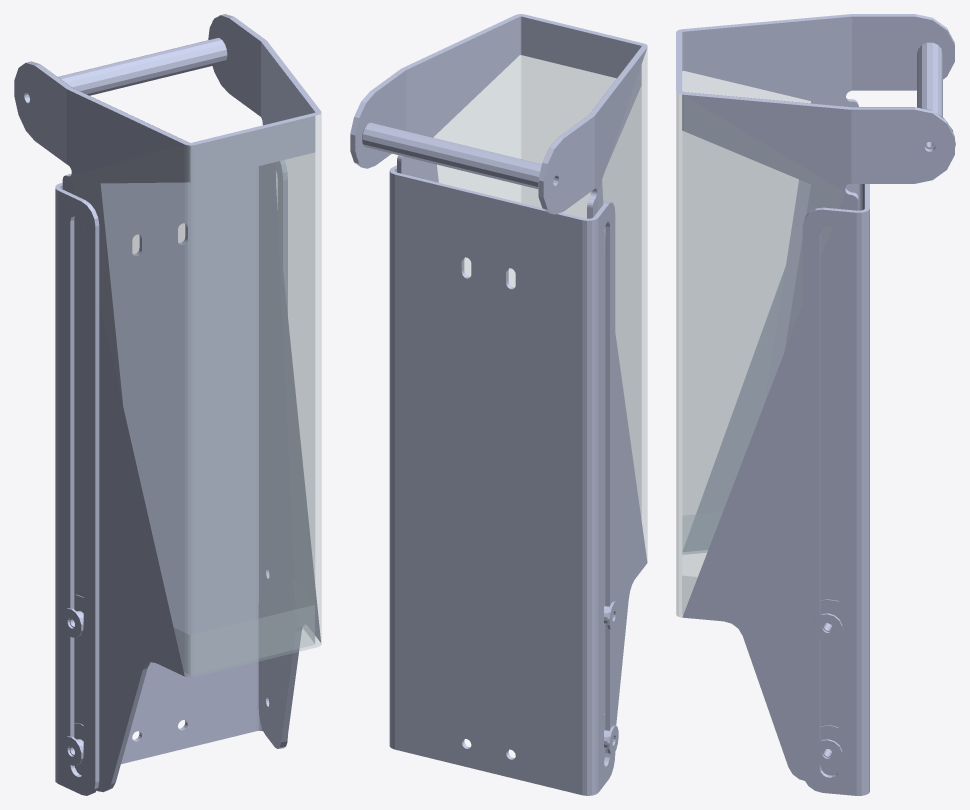
Rendered from matchloader.glb.
3 renders of one model, left to right at view 1: azimuth 30°, elevation 25°; view 2: azimuth 150°, elevation 25°; view 3: azimuth 270°, elevation 25°, orthographic. The views are drawn at different scales.
Visible parts, largest first — view 1: matchloader_frame, matchloader_front_transparent; view 2: matchloader_frame, matchloader_front_transparent; view 3: matchloader_frame, matchloader_front_transparent.
Part boxes in pixels (bbox=[...]): matchloader_frame: bbox=[14, 14, 321, 795]; matchloader_front_transparent: bbox=[71, 113, 321, 677]; matchloader_frame: bbox=[350, 14, 647, 795]; matchloader_front_transparent: bbox=[434, 48, 647, 560]; matchloader_frame: bbox=[676, 14, 955, 795]; matchloader_front_transparent: bbox=[676, 71, 845, 617].
Size of the model in its own units: 0.1227 by 0.3689 by 0.137.
